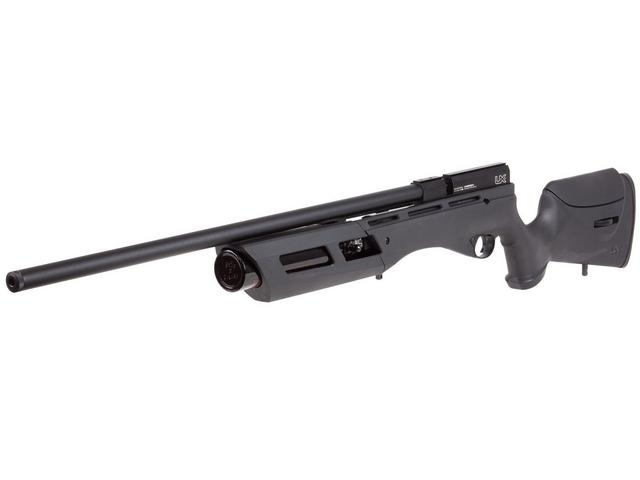rifle: (1, 159, 634, 353)
